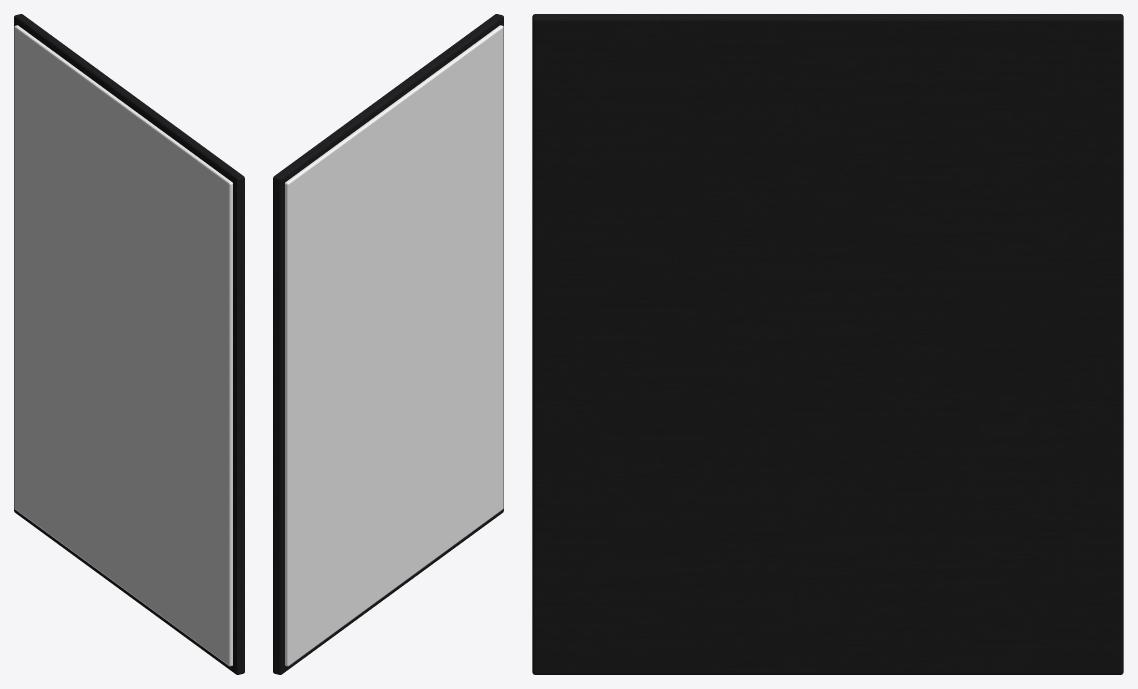
File: foyer_mirror.glb
The picture shows the model from 3 angles, left to right: view 1: azimuth 30°, elevation 25°; view 2: azimuth 150°, elevation 25°; view 3: azimuth 270°, elevation 25°; orthographic projection. The views are drawn at different scales.
Parts seen in each view (by area): view 1: foyer_mirror; view 2: foyer_mirror; view 3: foyer_mirror.
Boxes of the visible parts, left/top/right/bottom form: foyer_mirror: left=14, top=14, right=244, bottom=674; foyer_mirror: left=273, top=14, right=503, bottom=674; foyer_mirror: left=532, top=14, right=1123, bottom=674.
Size of the model in its own units: 0.028 by 1.08 by 0.88.
2 materials, 1 textured.
